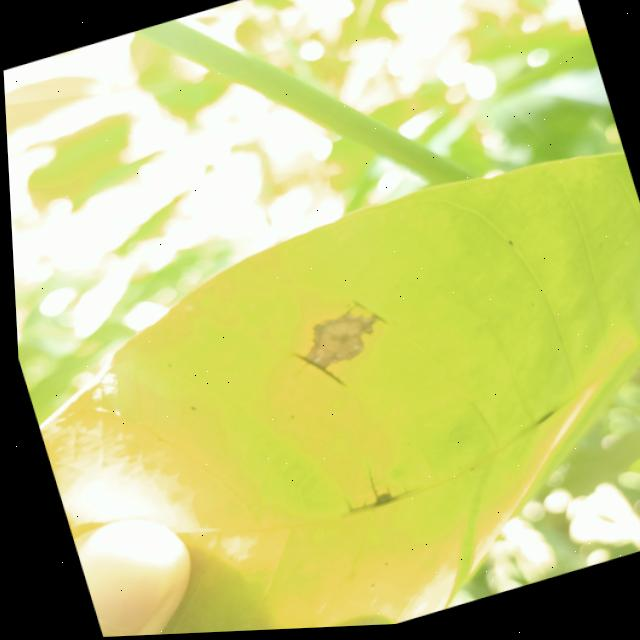Corynespora: (332, 463, 410, 518), (286, 344, 343, 403)
Leaf-Blight: (290, 305, 385, 376)
